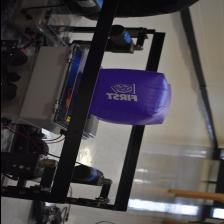cube: (88, 69, 170, 125)
